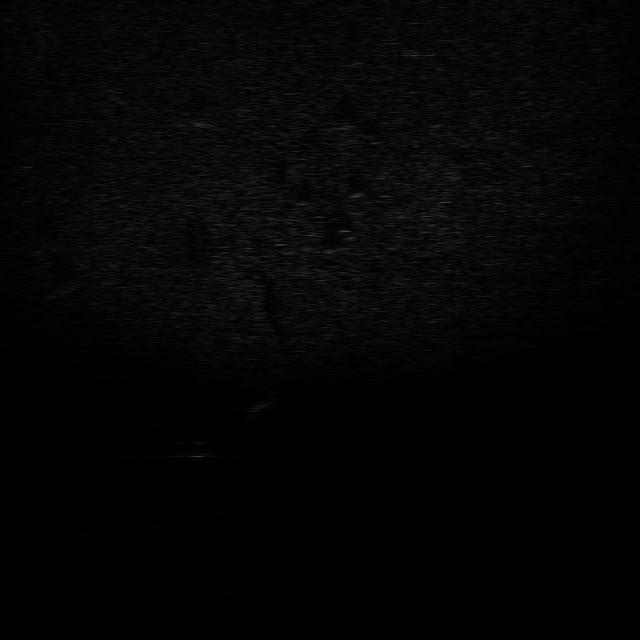ball: (171, 436, 219, 462)
human body: (241, 379, 284, 424)
